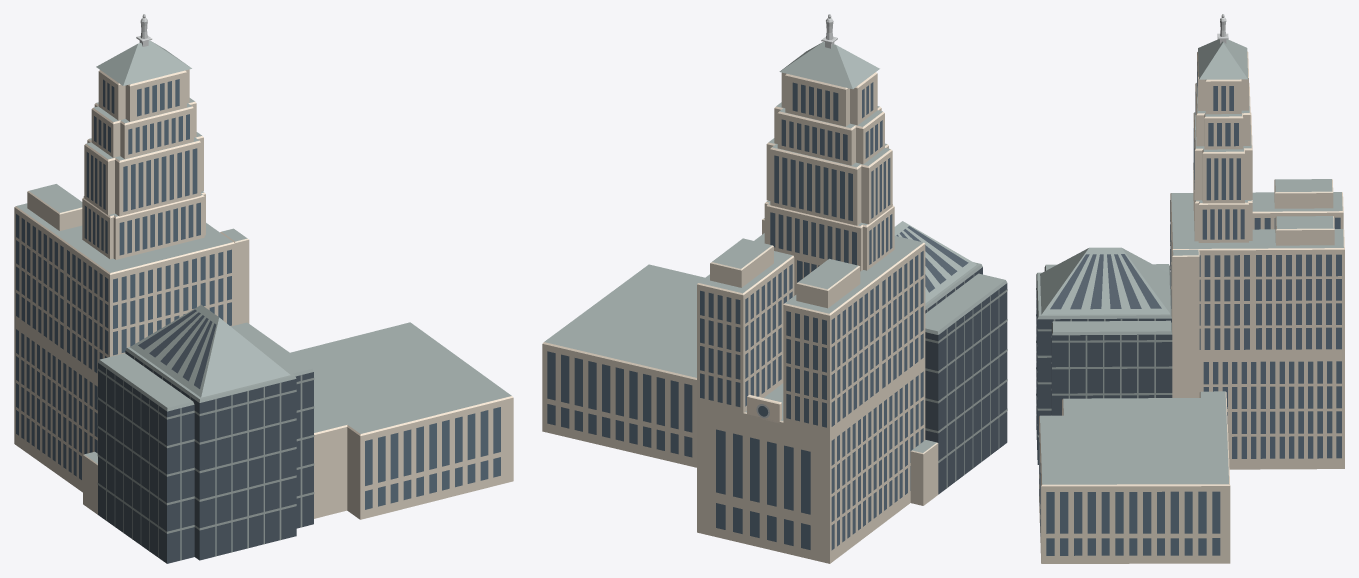
3 renders of one model, left to right at view 1: azimuth 30°, elevation 25°; view 2: azimuth 150°, elevation 25°; view 3: azimuth 270°, elevation 25°, orthographic. The views are drawn at different scales.
Visible parts, largest first — view 1: chicago-board-of-trade-building; view 2: chicago-board-of-trade-building; view 3: chicago-board-of-trade-building.
Boxes of the visible parts, x1,y1,x2,y2 form: chicago-board-of-trade-building: (14,14,513,563); chicago-board-of-trade-building: (542,14,1007,563); chicago-board-of-trade-building: (1036,14,1344,563).
Size of the model in its own units: 145 by 184 by 121.
